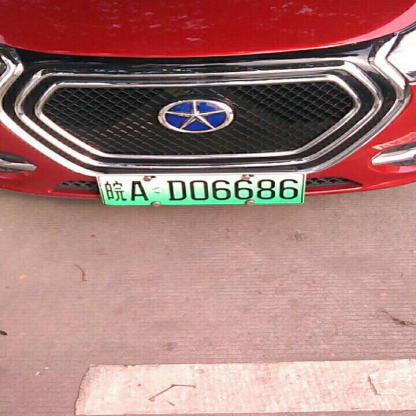lp: (96, 172, 305, 206)
